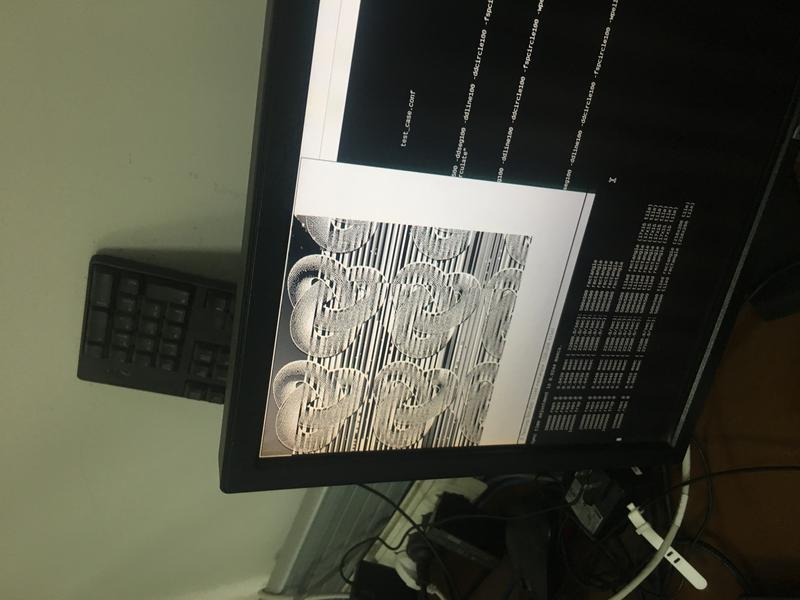xrandr_pass: (256, 146, 595, 467)
